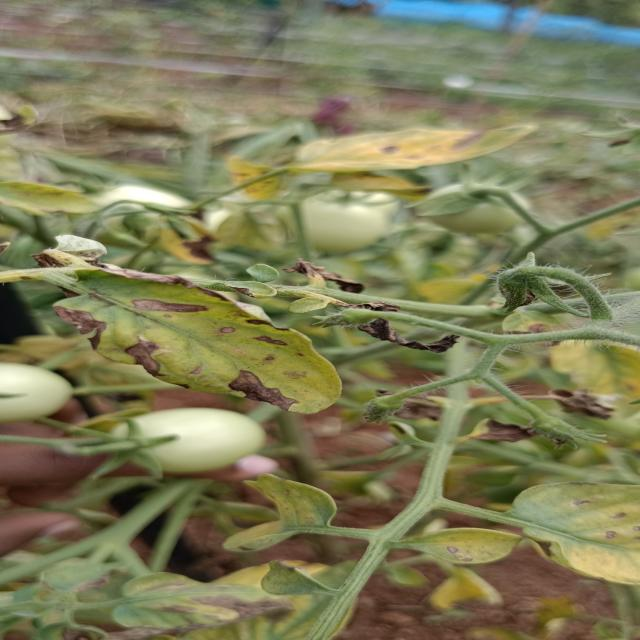tomato_early blight: (36, 256, 353, 417), (286, 115, 554, 182), (513, 476, 640, 584), (102, 565, 289, 629), (217, 473, 342, 556), (544, 332, 640, 399), (405, 523, 526, 566), (422, 570, 503, 616)
